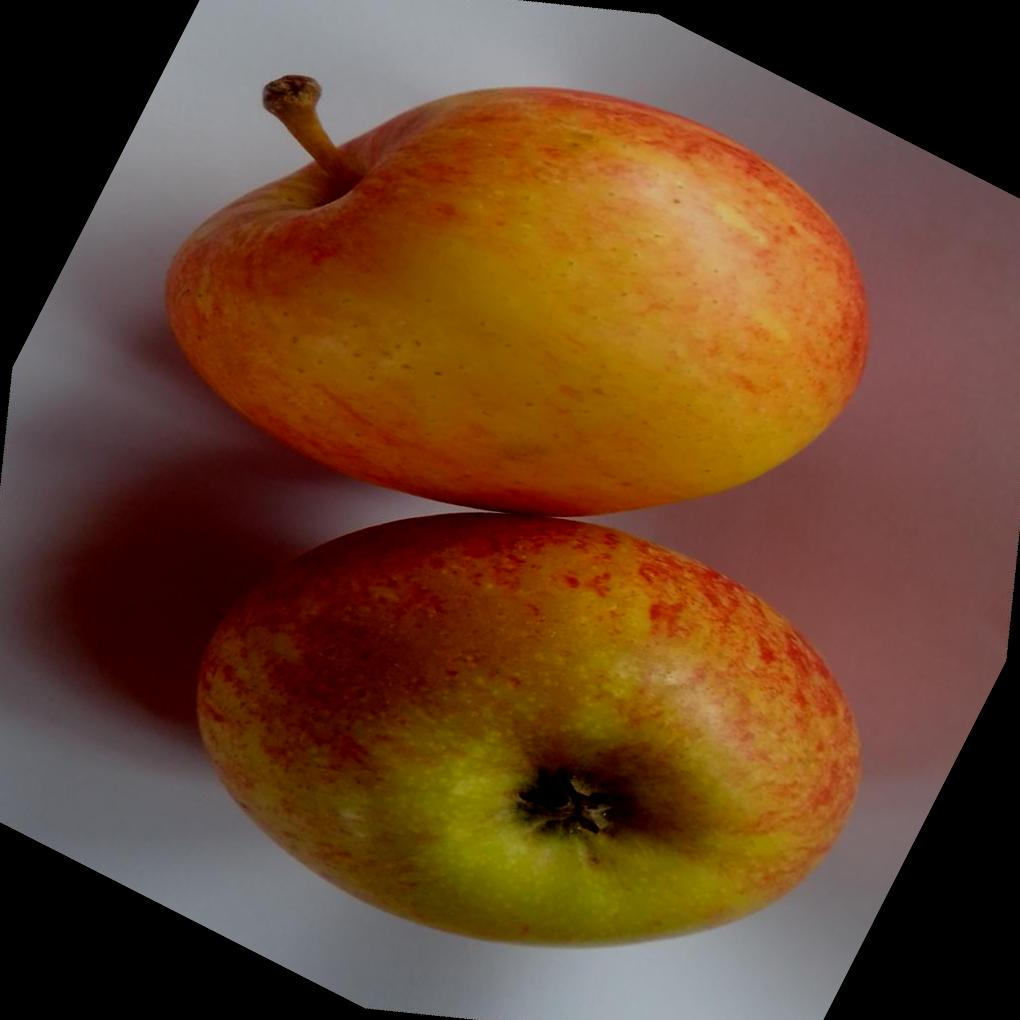FreshGuava: (161, 70, 874, 947)
